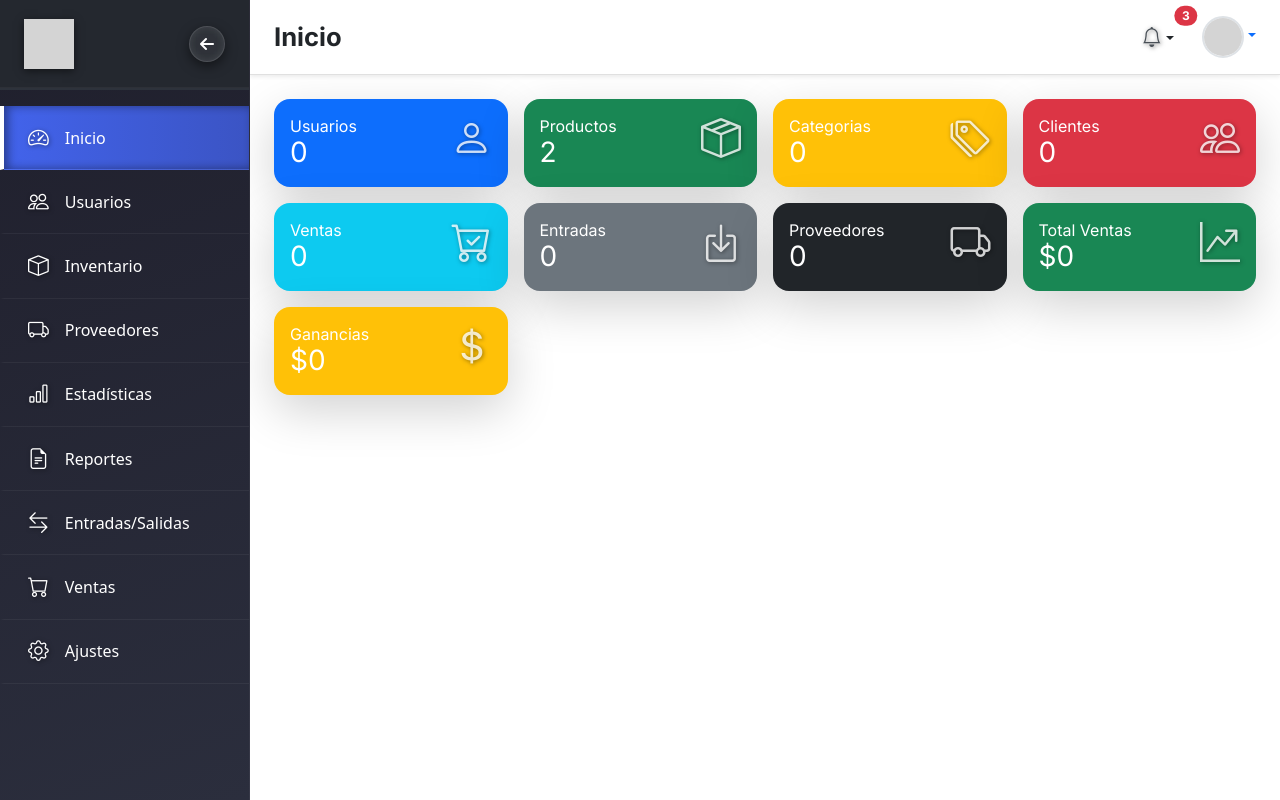
Test: Gestión de Productos › debe abrir el modal para crear producto
Click the text "Inventario" at coordinates (104, 266), box [65,254,143,278]
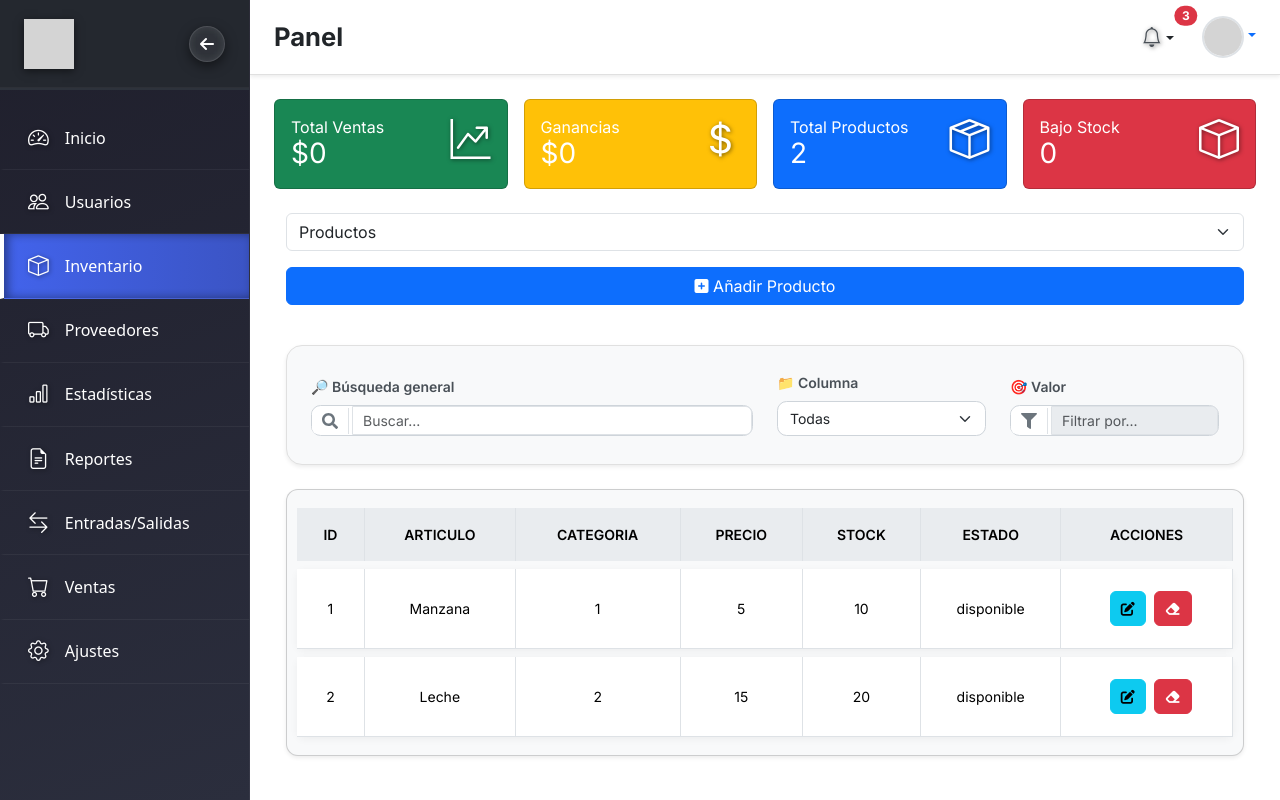
Click the button "Añadir Producto" at coordinates (765, 286), box [286,267,1244,305]
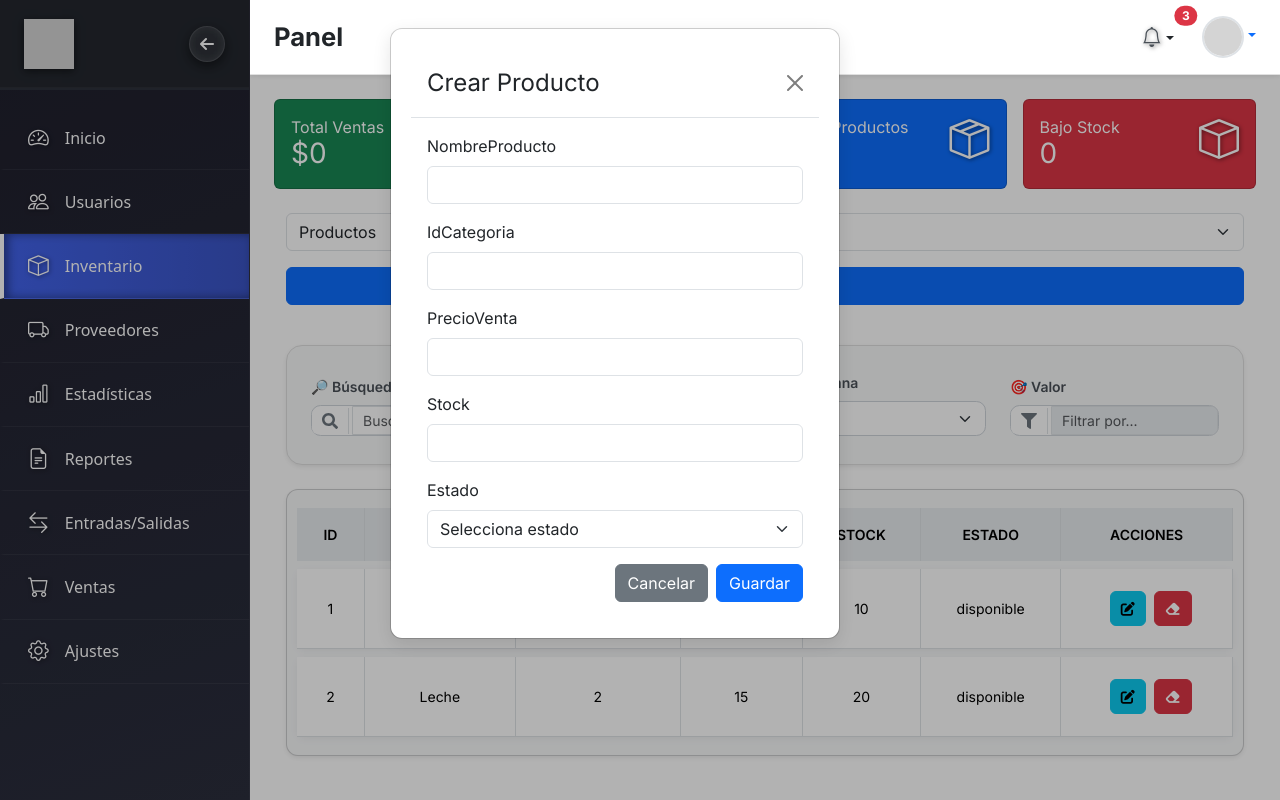
Check: the element with class "modal-content" is shown, box [390,28,840,639]
Check: the text "Crear Producto" is shown, box [427,65,600,101]
